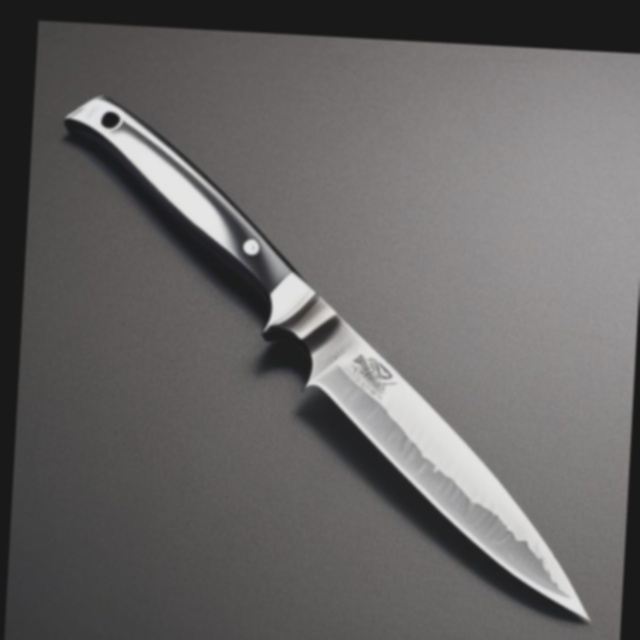Sharp-Object: (32, 85, 620, 624)
